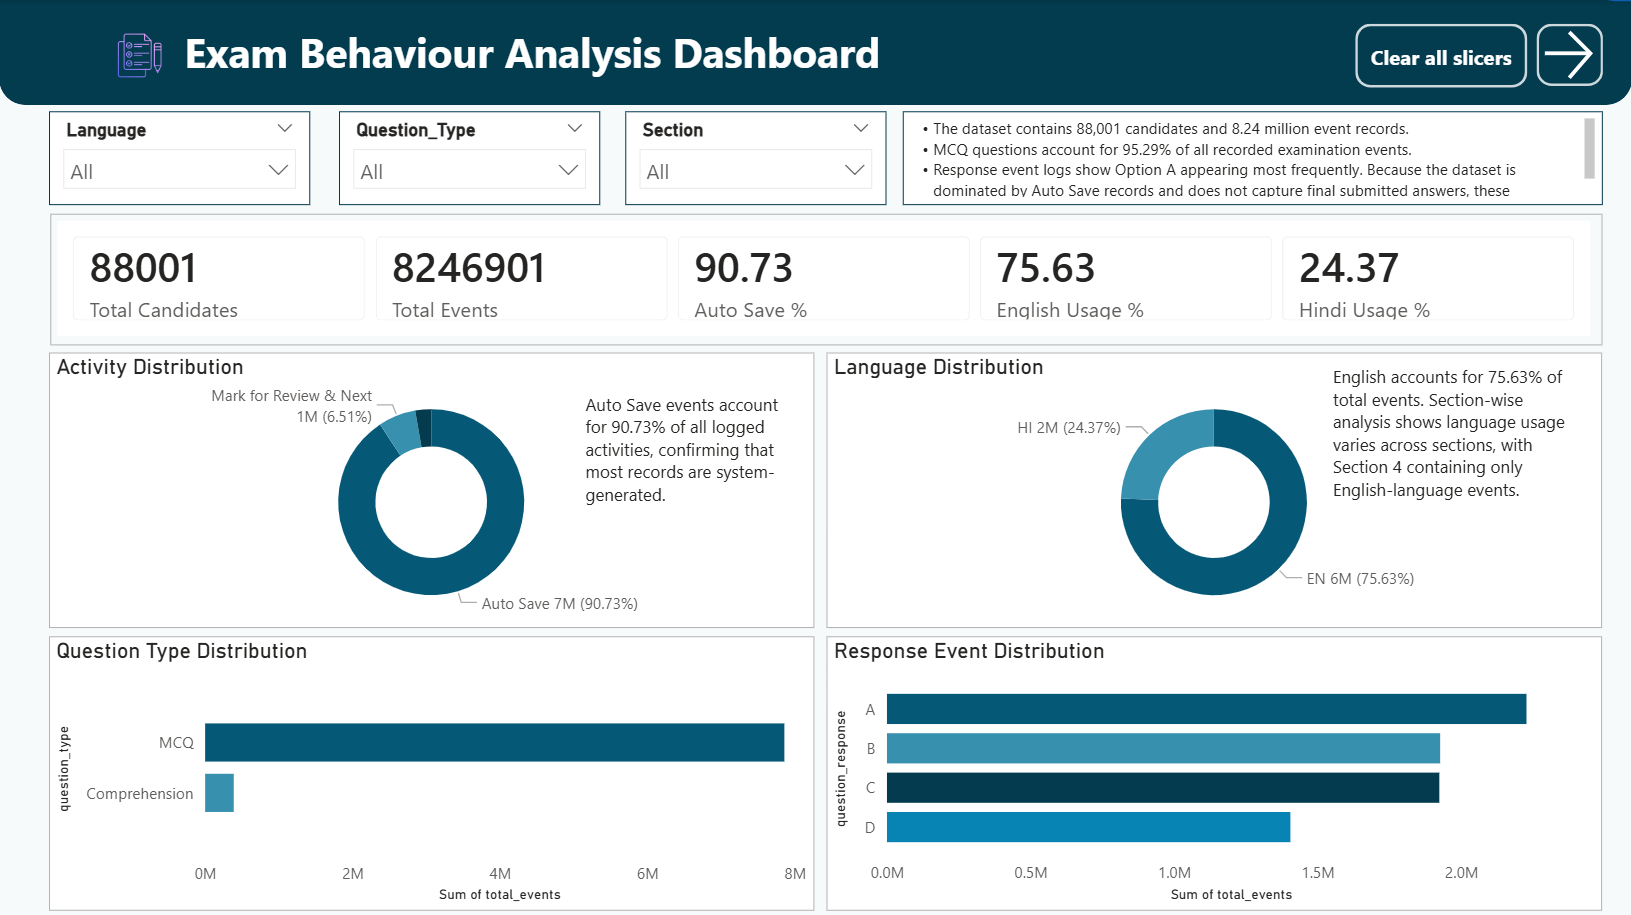

This screenshot's page, from the dashboard's own definition file:
{"tool":"powerbi","page":{"name":"Executive Summary","canvas":[1280,720],"ordinal":0},"visuals":[{"type":"group","id":"g1","title":"Group 2","box":[0,0,1280.3,82.3],"z":0},{"type":"shape","box":[0,0,1280.3,82.3],"z":0,"group":"g2"},{"type":"shape","box":[1233.6,0,46.7,37],"z":0,"group":"g1"},{"type":"group","id":"g2","title":"Group 1","box":[0,0,1280.3,82.3],"z":1000,"group":"g1"},{"type":"shape","box":[0,0,37,37],"z":1000,"group":"g2"},{"type":"textbox","box":[140,13.7,555.7,53.5],"z":1000},{"type":"slicer","fields":{"Values":["Language_Distribution.question_language"]},"box":[39.5,87.2,204.7,73.3],"z":2000},{"type":"slicer","fields":{"Values":["Question Type.question_type"]},"box":[266.3,87.2,204.7,73.3],"z":3000},{"type":"slicer","fields":{"Values":["Section Analysis.question_section"]},"box":[490.7,87.2,204.7,73.3],"z":4000},{"type":"cardVisual","fields":{"Data":["Sum(Dashboard_KPI.total_candidates)","Sum(Dashboard_KPI.total_events)","Sum(Dashboard_KPI.auto_save_pct)","Sum(Dashboard_KPI.english_pct)","Sum(Dashboard_KPI.hindi_pct)"]},"box":[39.8,167.4,1217.2,102.9],"z":5000},{"type":"donutChart","title":"Activity Distribution","fields":{"Category":["Activity Distribution.activity"],"Y":["Sum(Activity Distribution.total_events)"]},"box":[39.5,276.7,600,216.3],"z":6000},{"type":"textbox","box":[454.7,302.3,175.6,107],"z":7000},{"type":"donutChart","title":"Language Distribution","fields":{"Category":["Language_Distribution.question_language"],"Y":["Sum(Language_Distribution.total_events)"]},"box":[648.8,276.7,608.1,216.3],"z":8000},{"type":"textbox","box":[1040.7,281.4,205.8,120.9],"z":9000},{"type":"clusteredBarChart","title":"Question Type Distribution","fields":{"Category":["Question Type.question_type"],"Y":["Sum(Question Type.total_events)"]},"box":[39.5,498.8,600,215.1],"z":10000},{"type":"clusteredBarChart","title":"Response Event Distribution","fields":{"Category":["Response Distribution.question_response"],"Y":["Sum(Response Distribution.total_events)"]},"box":[649,499,608,215],"z":11000},{"type":"textbox","box":[708.1,87.2,548.8,73.3],"z":12000},{"type":"group","id":"g3","title":"Group 3","box":[1062.8,18.6,194.2,50],"z":13000},{"type":"actionButton","box":[1062.8,18.6,134.9,50],"z":13000,"group":"g3"},{"type":"actionButton","box":[1204.7,18.6,52.3,48.8],"z":14000,"group":"g3"},{"type":"image","box":[80.2,25.6,59.3,36],"z":14000}]}

Visuals, with their boxes in screenshot pixels (x1, y1, x2, y2), scaled from the page's 1280x720 canvas onto the 1631x915 screenshot:
"Group 2" group: region(0, 0, 1630, 105)
shape: region(0, 0, 1630, 105)
shape: region(1572, 0, 1630, 47)
"Group 1" group: region(0, 0, 1630, 105)
shape: region(0, 0, 47, 47)
textbox: region(178, 17, 886, 85)
slicer - Language_Distribution.question_language: region(50, 111, 311, 204)
slicer - Question Type.question_type: region(339, 111, 600, 204)
slicer - Section Analysis.question_section: region(625, 111, 886, 204)
cardVisual - Sum(Dashboard_KPI.total_candidates) x Sum(Dashboard_KPI.total_events): region(51, 213, 1602, 344)
"Activity Distribution" donutChart: region(50, 352, 815, 627)
textbox: region(579, 384, 803, 520)
"Language Distribution" donutChart: region(827, 352, 1602, 627)
textbox: region(1326, 358, 1588, 511)
"Question Type Distribution" clusteredBarChart: region(50, 634, 815, 907)
"Response Event Distribution" clusteredBarChart: region(827, 634, 1602, 907)
textbox: region(902, 111, 1602, 204)
"Group 3" group: region(1354, 24, 1602, 87)
actionButton: region(1354, 24, 1526, 87)
actionButton: region(1535, 24, 1602, 86)
image: region(102, 33, 178, 78)
